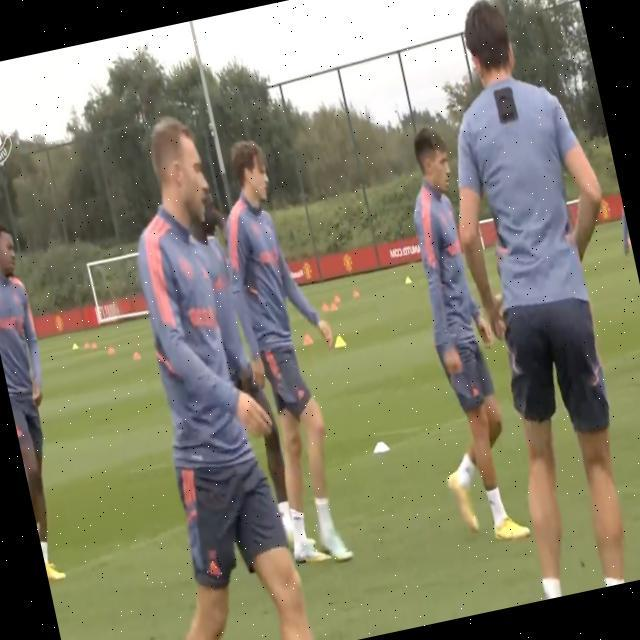Adidas: (205, 559, 223, 579)
